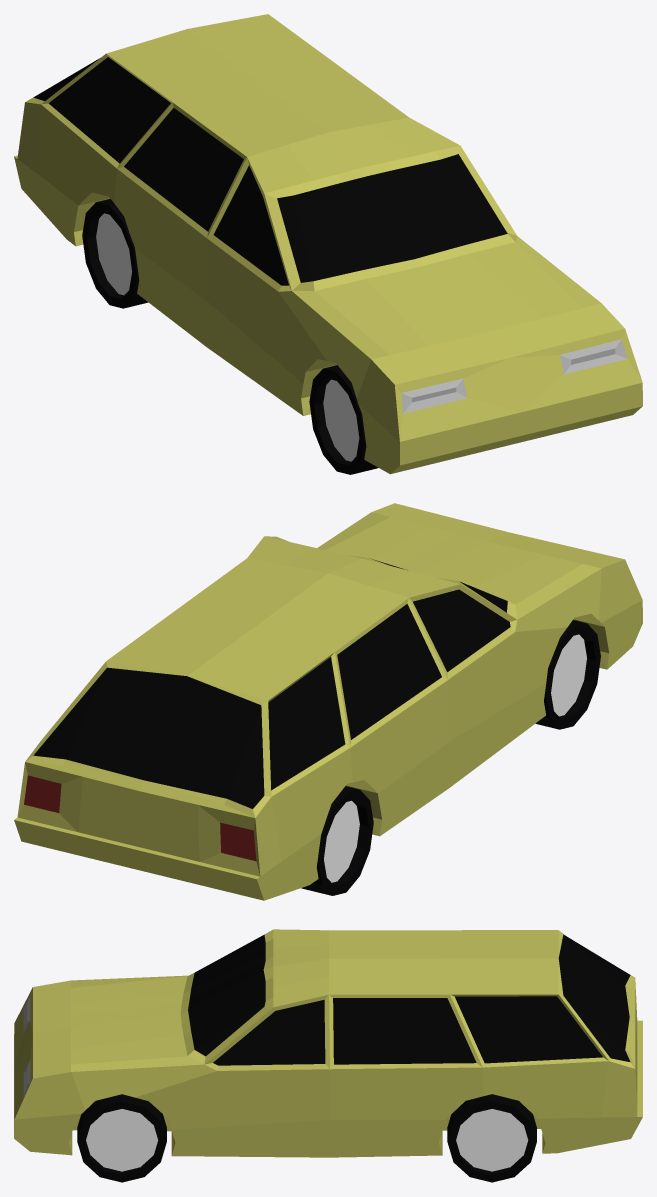
File: Car1.fbx
3 views of the same model, one above another, from view 1: azimuth 30°, elevation 25°; view 2: azimuth 150°, elevation 25°; view 3: azimuth 270°, elevation 25° (orthographic). The views are drawn at different scales.
Parts seen in each view (by area): view 1: Cube, Cylinder.002, Cylinder.001; view 2: Cube, Cylinder.001, Cylinder.002; view 3: Cube, Cylinder.001, Cylinder.002.
Boxes of the visible parts, left/top/right/bottom form: Cube: left=14, top=14, right=642, bottom=474; Cylinder.002: left=309, top=365, right=378, bottom=474; Cylinder.001: left=82, top=198, right=148, bottom=308; Cube: left=14, top=503, right=642, bottom=900; Cylinder.001: left=301, top=786, right=373, bottom=895; Cylinder.002: left=535, top=620, right=600, bottom=729; Cube: left=14, top=929, right=642, bottom=1157; Cylinder.001: left=447, top=1094, right=536, bottom=1182; Cylinder.002: left=77, top=1094, right=166, bottom=1182.
Bounding box in the file's own units: 99.19 × 84.88 × 273.
